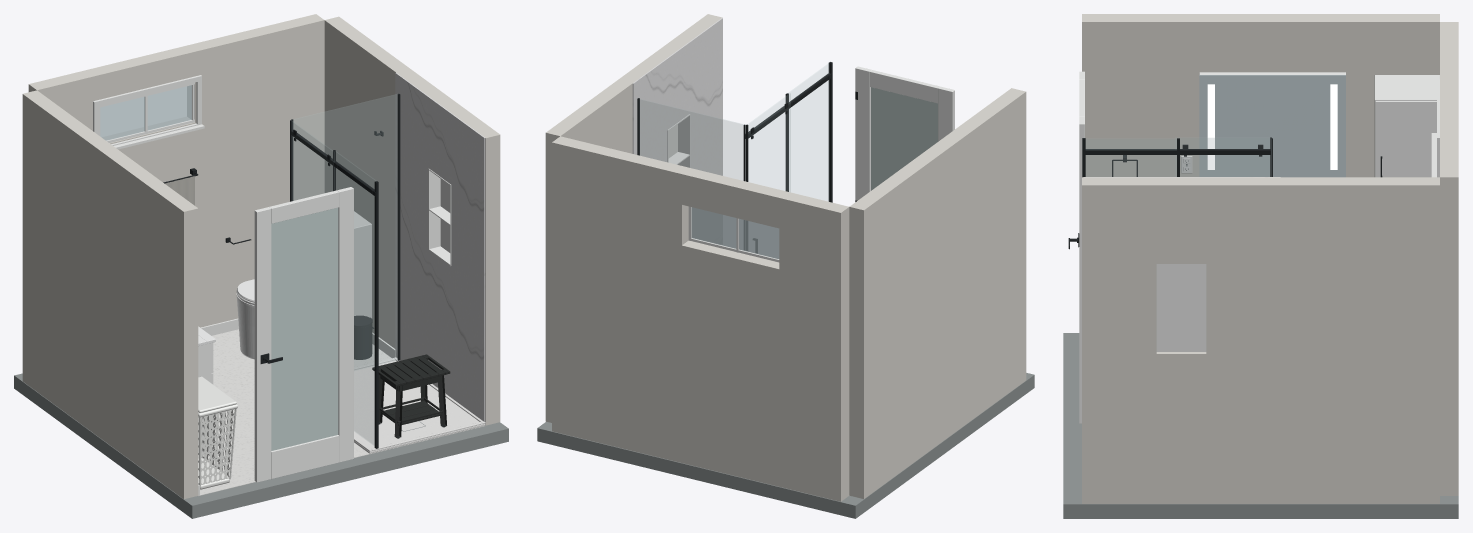
File: bathroom.glb
3 renders of one model, left to right at view 1: azimuth 30°, elevation 25°; view 2: azimuth 150°, elevation 25°; view 3: azimuth 270°, elevation 25°, orthographic. The views are drawn at different scales.
Visible parts, largest first — view 1: Left wall, Back wall · below window, Shaker door frosted pane, Shower glass · short return, Right wall · toilet end, Sapphire right panel · below niche, Back wall · above window, Floor slab, Sapphire right panel · above niche, Shower glass · fixed long panel, Back wall · right return, White speckled epoxy floor (+24 smaller); view 2: Back wall · below window, Left wall, Back wall · above window, Floor slab, Sapphire right panel · above niche, Shower glass · short return, Right wall · toilet end, Back wall · right return, Shaker door frosted pane, Shower glass · fixed long panel, Shower glass · sliding door concept, Back wall · left return (+8 smaller); view 3: Right wall · toilet end, Left wall, Right wall · below niche, Right wall · above niche, ALEX reflective surface, Floor slab, Right wall · front return, Right wall · back return, Linen cabinet door · right hinged, Back wall · below window, Homevacious vertical niche back, Back wall · above window (+7 smaller).
Part boxes in pixels (box(x1,y1,x2,y2)): Left wall: box(22, 90, 198, 499); Back wall · below window: box(102, 91, 324, 327); Shaker door frosted pane: box(271, 207, 338, 450); Shower glass · short return: box(293, 94, 397, 370); Right wall · toilet end: box(324, 16, 410, 348); Sapphire right panel · below niche: box(395, 225, 485, 421); Back wall · above window: box(28, 14, 324, 112); Floor slab: box(14, 373, 508, 518); Sapphire right panel · above niche: box(395, 72, 485, 208); Shower glass · fixed long panel: box(335, 151, 375, 445); Back wall · right return: box(187, 50, 324, 122); White speckled epoxy floor: box(198, 329, 485, 495); Back wall · below window: box(552, 214, 849, 501); Left wall: box(849, 88, 1026, 498); Back wall · above window: box(552, 136, 849, 243); Floor slab: box(537, 373, 1034, 518); Sapphire right panel · above niche: box(632, 18, 722, 154); Shower glass · short return: box(639, 99, 743, 180); Right wall · toilet end: box(545, 80, 632, 422); Back wall · right return: box(552, 173, 688, 245); Shaker door frosted pane: box(871, 87, 937, 190); Shower glass · fixed long panel: box(789, 63, 828, 201); Shower glass · sliding door concept: box(748, 93, 790, 191); Back wall · left return: box(779, 228, 849, 284); Right wall · toilet end: box(1280, 177, 1439, 503); Left wall: box(1082, 14, 1439, 177); Right wall · below niche: box(1082, 352, 1280, 503); Right wall · above niche: box(1082, 177, 1280, 263); ALEX reflective surface: box(1199, 75, 1345, 177); Floor slab: box(1063, 333, 1458, 518); Right wall · front return: box(1082, 264, 1156, 353); Right wall · back return: box(1206, 264, 1280, 353); Linen cabinet door · right hinged: box(1375, 100, 1436, 177); Back wall · below window: box(1440, 256, 1458, 495); Homevacious vertical niche back: box(1156, 264, 1206, 351); Back wall · above window: box(1440, 22, 1458, 211).
Bounding box in the file's own units: 2.49 × 2.26 × 2.43.
18 materials, 3 textured.
